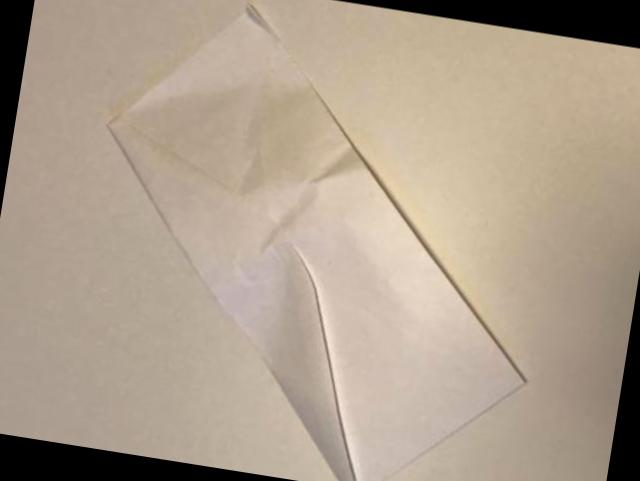cardboard paper: (108, 10, 521, 481)
